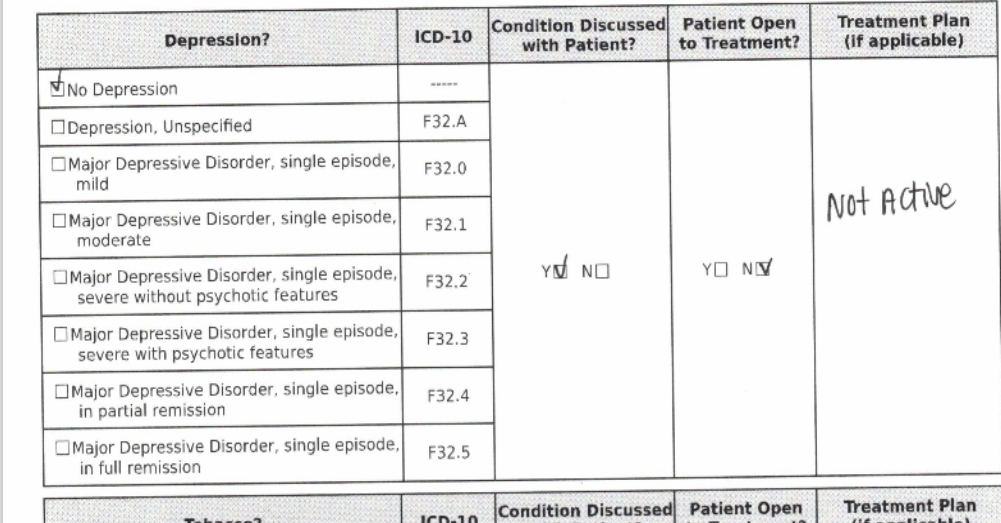checked: (754, 249, 777, 286), (551, 248, 572, 284), (46, 69, 65, 95)
